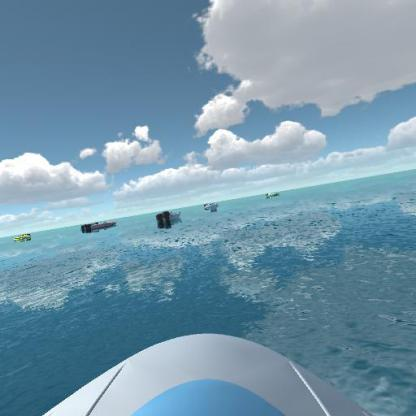usv0: (262, 187, 282, 200)
usv1: (155, 207, 185, 228), (201, 198, 219, 212)
usv2: (10, 230, 33, 248)
usv3: (78, 217, 121, 234)
